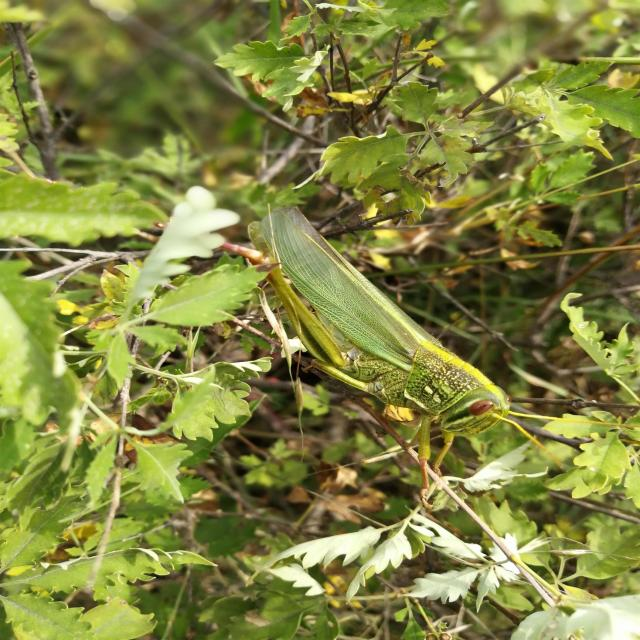ZhaMeng: (226, 199, 563, 462)
